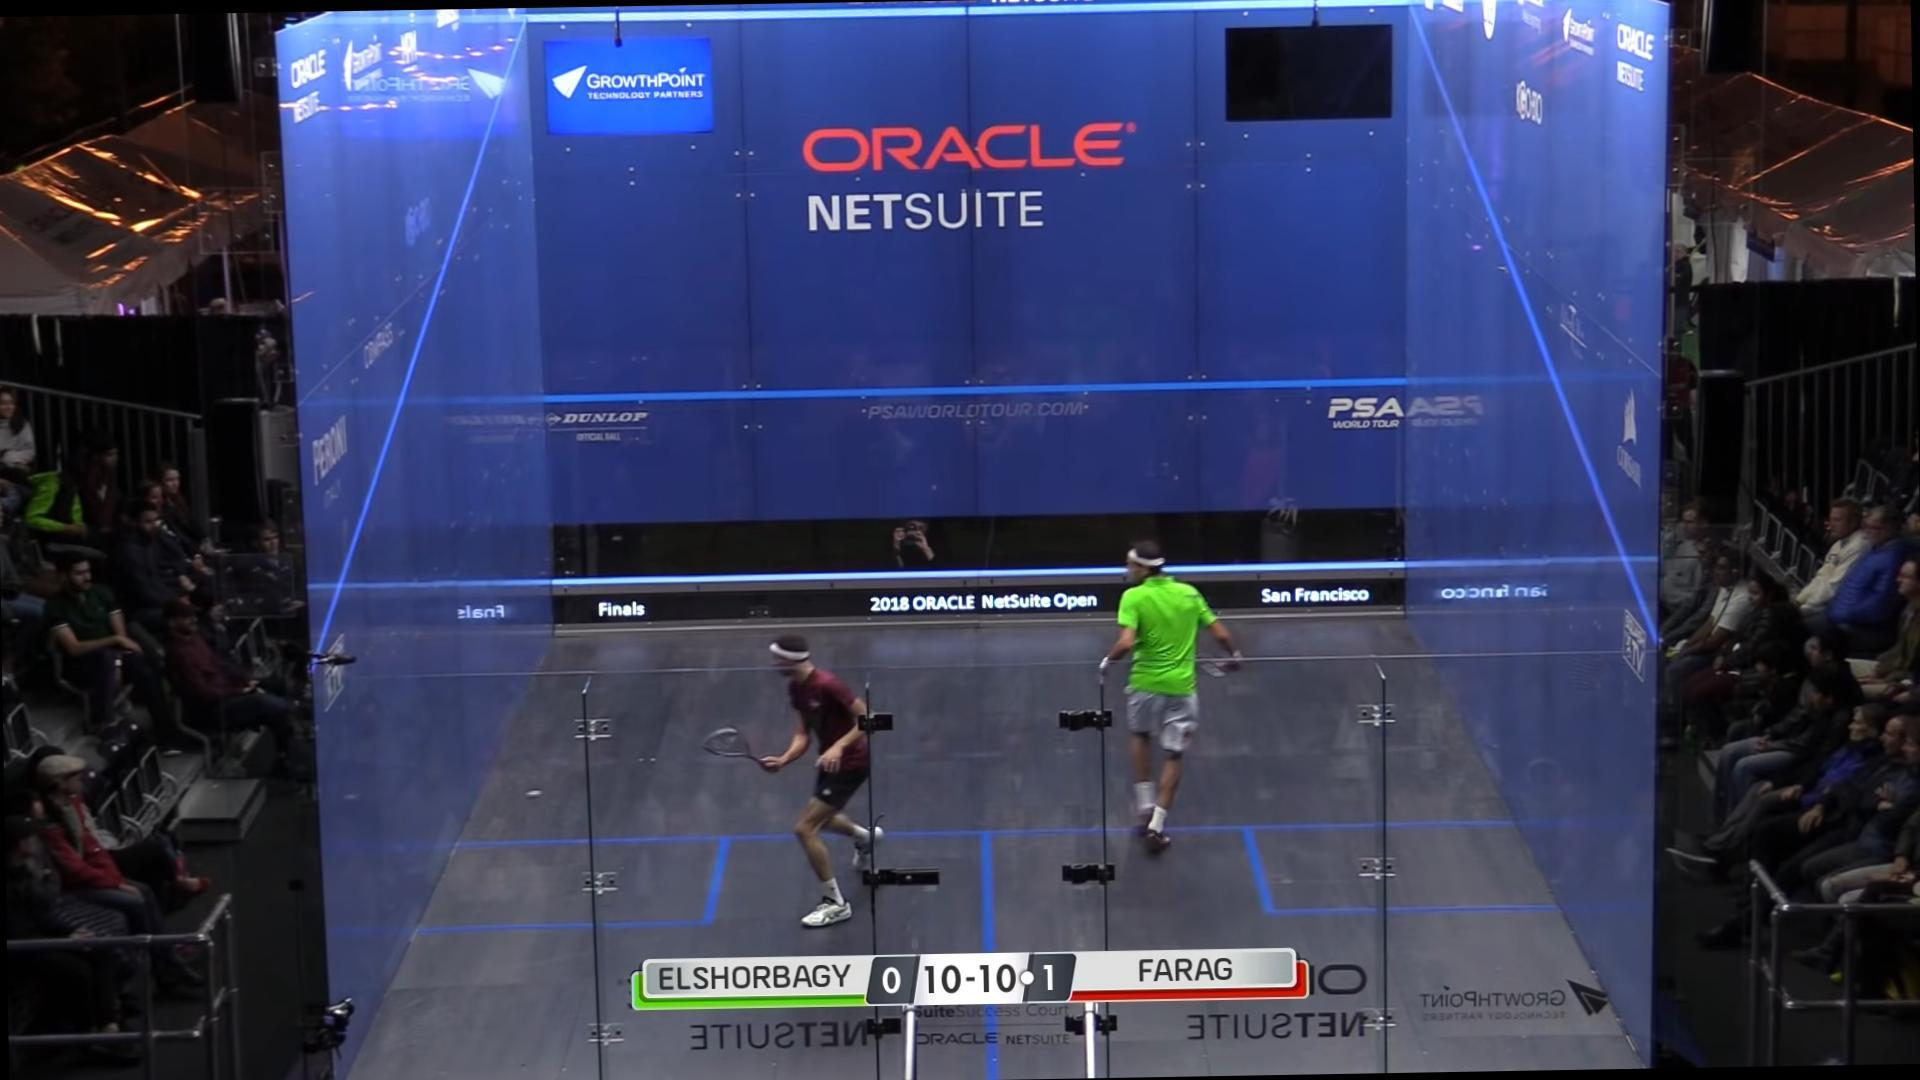Squash-Ball: (525, 783, 550, 803)
